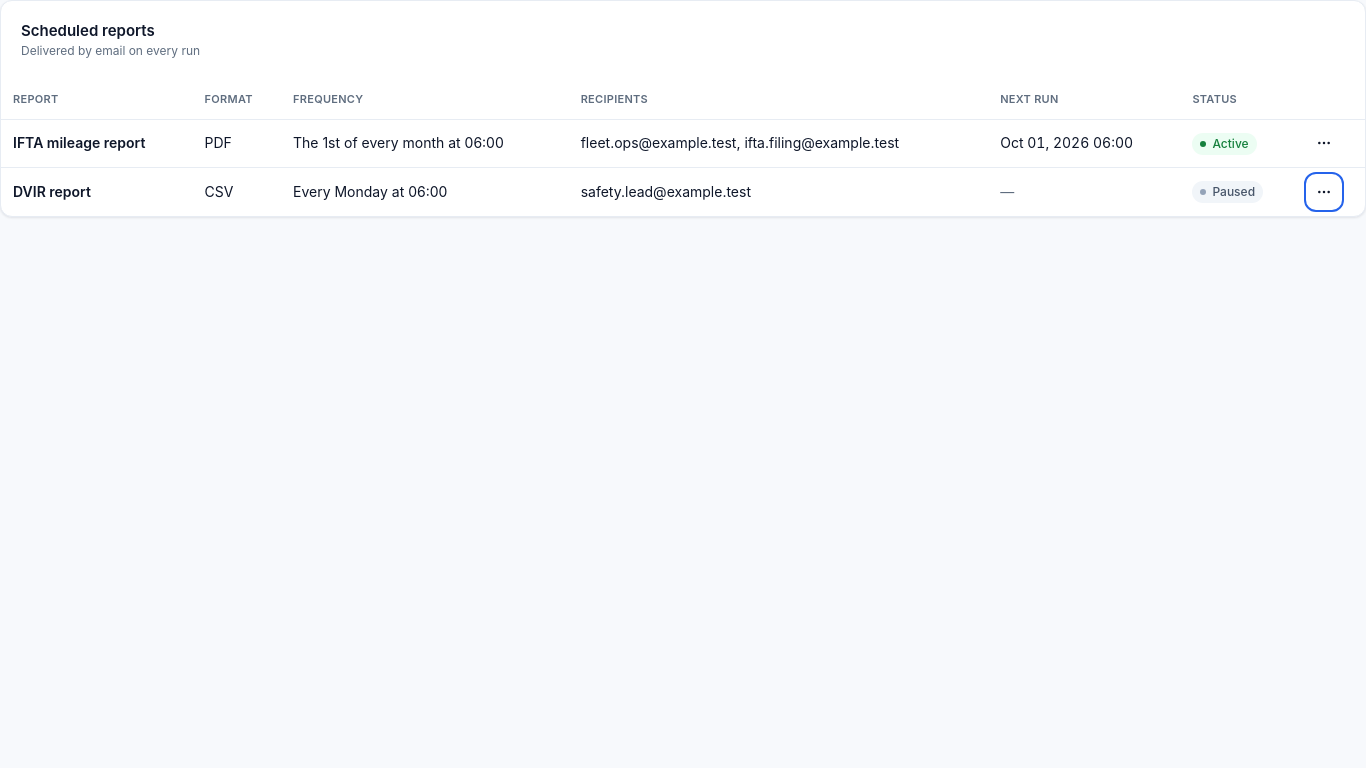
Test case: ScheduledReportsCard › Delete asks for confirmation, then sends DELETE and toasts
Expected: the text "DVIR report" is shown, [13, 183, 91, 200]
Press Enter
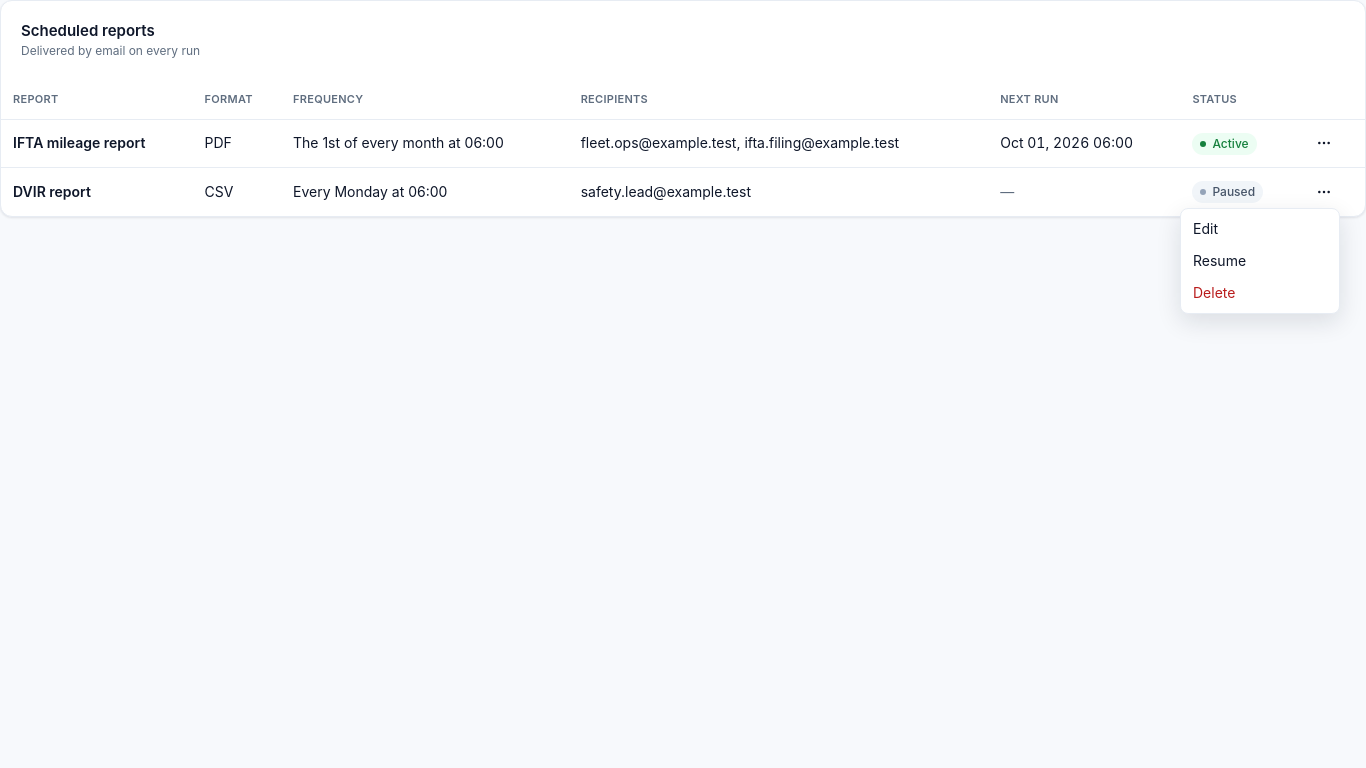
Expected: the menu item "Resume" is shown, [1193, 252, 1246, 269]
Click the menu item "Delete" at (1214, 292), box [1193, 284, 1235, 301]
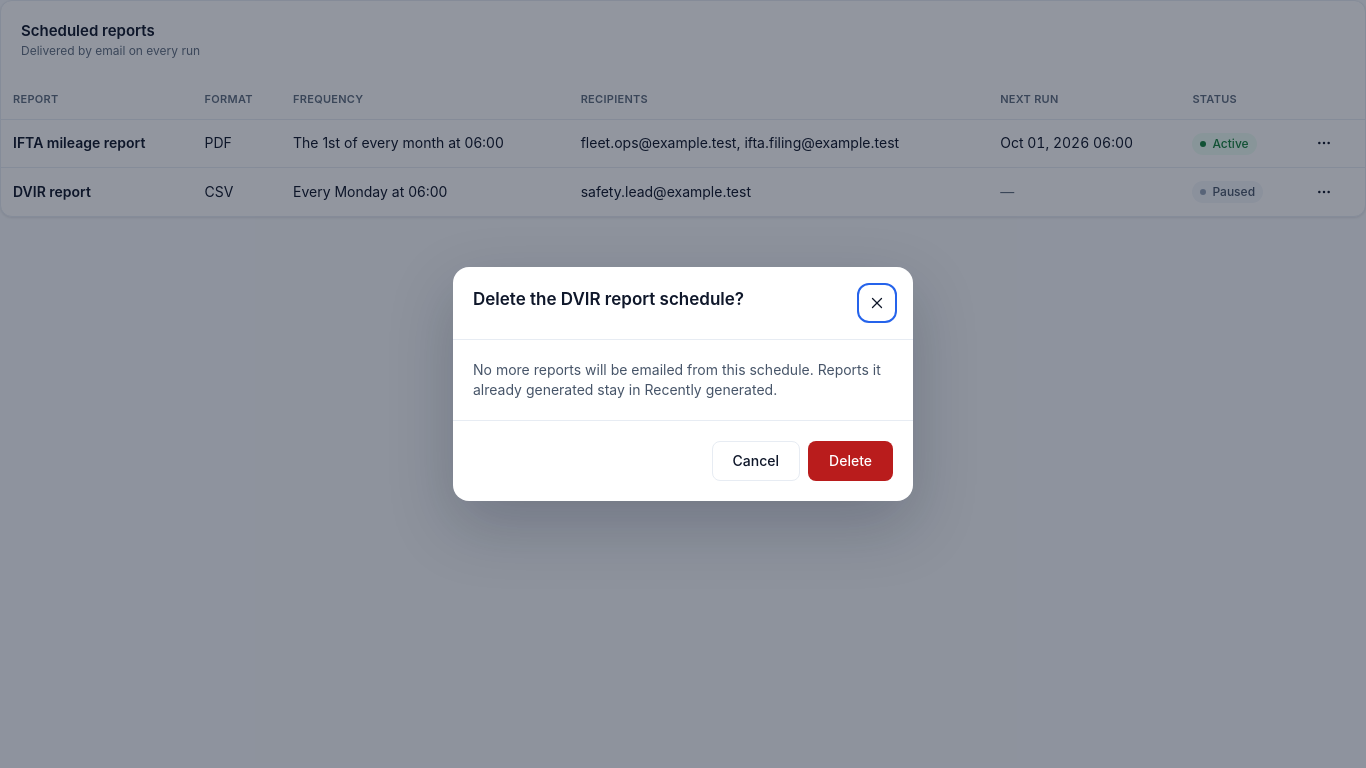
Click the button "Delete" at (851, 461), box [808, 441, 893, 481]
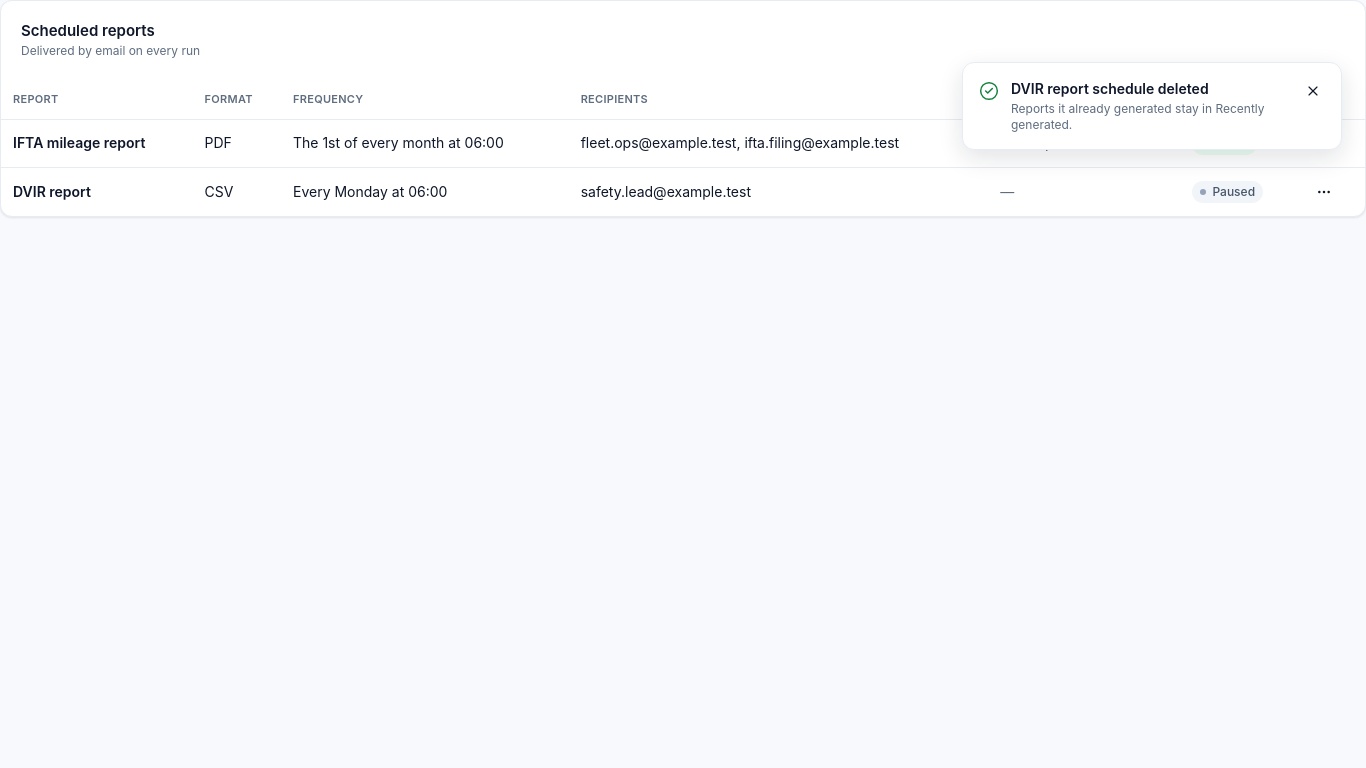
Expected: the text "DVIR report schedule deleted" is shown, [1011, 80, 1209, 97]
